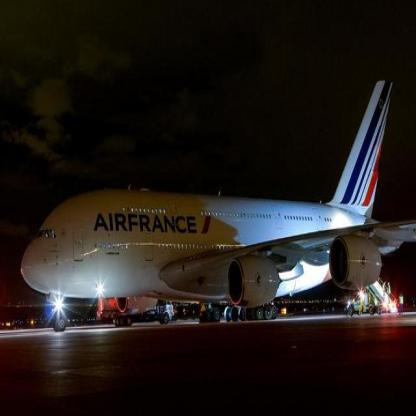CIV_Plane: (18, 71, 415, 337)
